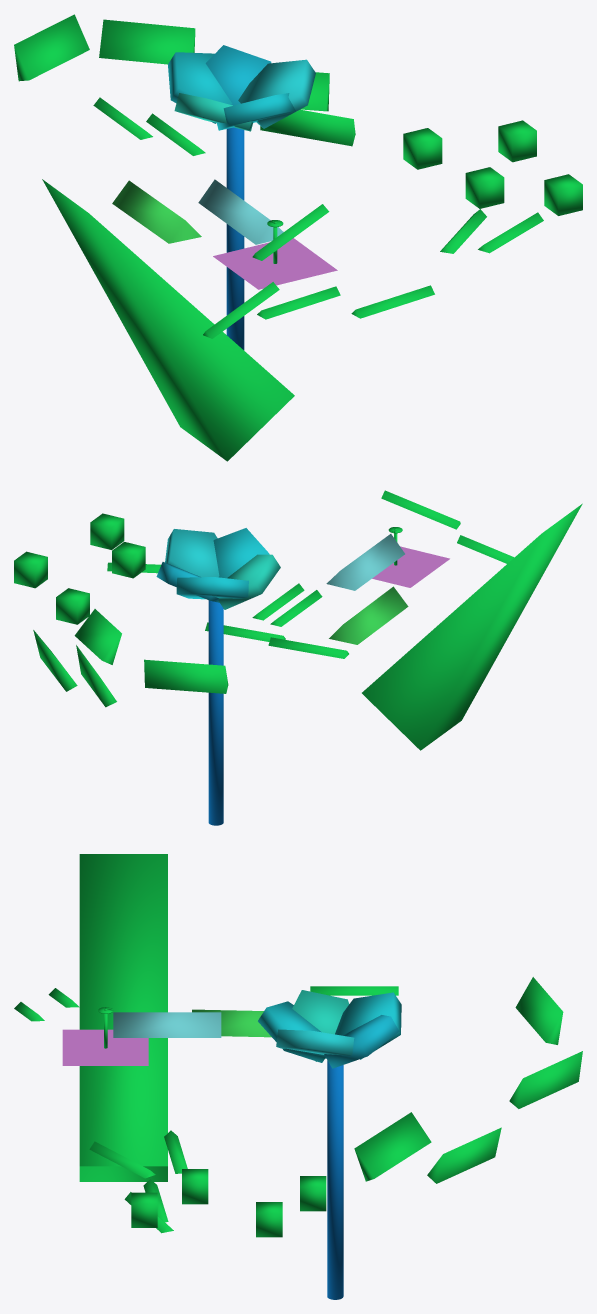
File: KevWorldColor.obj
3 views of the same model, one above another, from view 1: azimuth 30°, elevation 25°; view 2: azimuth 150°, elevation 25°; view 3: azimuth 270°, elevation 25° (orthographic). The views are drawn at different scales.
Parts seen in each view (by area): view 1: Basic_Ramp.012, Basic_Ramp.003, Baseplane, Basic_Ramp.002, Cylinder.001, Cylinder.003, Basic_Ramp.001, Basic_Ramp, Cylinder.002, Basic_Ramp.006, Cylinder.006, Cylinder.004 (+14 smaller); view 2: Basic_Ramp.012, Cylinder.001, Basic_Ramp.002, Cylinder.003, Basic_Ramp.001, Basic_Ramp, Cylinder.004, Baseplane, Basic_Ramp.006, Cylinder.005, Cylinder.002, Cube.009 (+12 smaller); view 3: Basic_Ramp.012, Cylinder.001, Baseplane, Basic_Ramp, Basic_Ramp.006, Basic_Ramp.003, Basic_Ramp.002, Basic_Ramp.005, Cylinder.002, Cylinder.006, Cylinder.003, Cylinder.005 (+9 smaller).
Boxes of the visible parts, bbox=[...] form: Basic_Ramp.012: bbox=[42, 179, 294, 461]; Basic_Ramp.003: bbox=[99, 19, 195, 64]; Baseplane: bbox=[213, 238, 337, 289]; Basic_Ramp.002: bbox=[14, 14, 89, 81]; Cylinder.001: bbox=[226, 127, 244, 350]; Cylinder.003: bbox=[238, 59, 315, 128]; Basic_Ramp.001: bbox=[112, 180, 201, 243]; Basic_Ramp: bbox=[198, 179, 283, 244]; Cylinder.002: bbox=[168, 52, 232, 123]; Basic_Ramp.006: bbox=[260, 109, 355, 146]; Cylinder.006: bbox=[205, 45, 271, 105]; Cylinder.004: bbox=[216, 93, 295, 130]; Basic_Ramp.012: bbox=[362, 503, 582, 750]; Cylinder.001: bbox=[208, 600, 223, 825]; Basic_Ramp.002: bbox=[144, 659, 228, 693]; Cylinder.003: bbox=[165, 529, 219, 577]; Basic_Ramp.001: bbox=[329, 586, 408, 644]; Basic_Ramp: bbox=[326, 534, 404, 590]; Cylinder.004: bbox=[213, 528, 269, 578]; Baseplane: bbox=[372, 546, 449, 587]; Basic_Ramp.006: bbox=[74, 609, 121, 664]; Cylinder.005: bbox=[218, 554, 280, 609]; Cylinder.002: bbox=[176, 577, 248, 599]; Cube.009: bbox=[90, 513, 124, 549]; Basic_Ramp.012: bbox=[79, 854, 167, 1181]; Cylinder.001: bbox=[327, 1060, 343, 1299]; Baseplane: bbox=[62, 1029, 148, 1065]; Basic_Ramp: bbox=[113, 1012, 221, 1037]; Basic_Ramp.006: bbox=[354, 1112, 431, 1181]; Basic_Ramp.003: bbox=[509, 1051, 582, 1108]; Basic_Ramp.002: bbox=[515, 977, 563, 1044]; Basic_Ramp.005: bbox=[427, 1127, 501, 1183]; Cylinder.002: bbox=[335, 992, 401, 1059]; Cylinder.006: bbox=[324, 1015, 399, 1068]; Cylinder.003: bbox=[276, 1029, 354, 1055]; Cylinder.005: bbox=[292, 990, 349, 1061].
Size of the model in its own units: 1402 by 825 by 1360.
